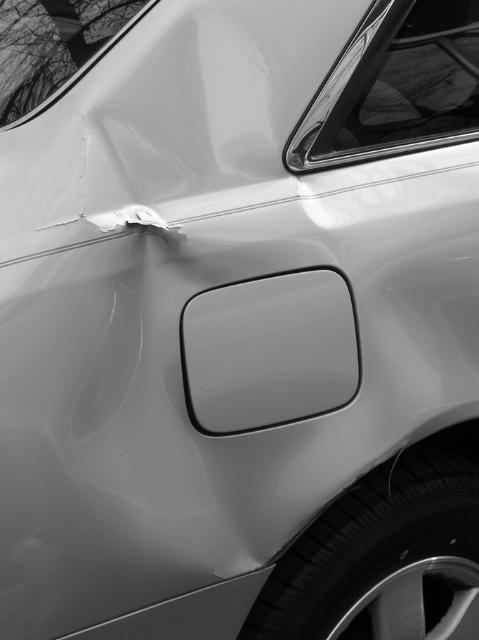Fender: (20, 150, 418, 542)
